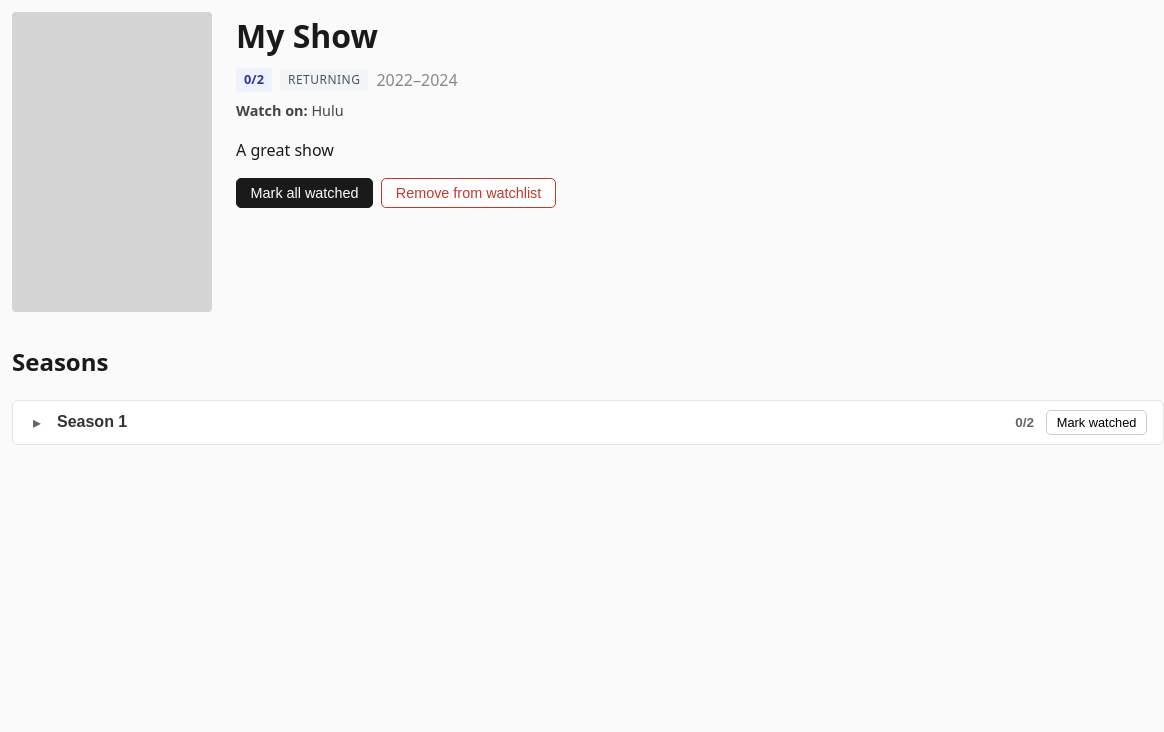
Test: ShowDetail › shows error when episode toggle fails
This screenshot has width=1164, height=732.
expect the heading "My Show" is shown: met, box [236,14,378,57]
Click the button "▸ Season 1 0/2" at (92, 422), box [29,409,1034,436]
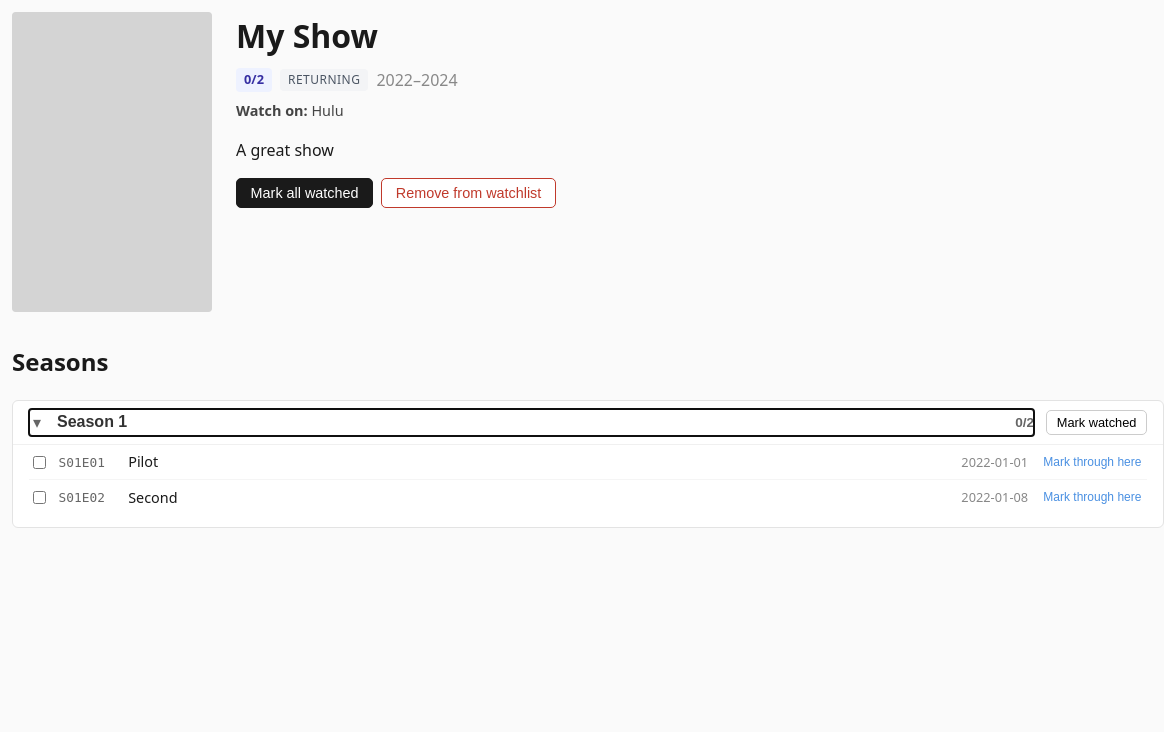
Click the checkbox named "Mark S1E1 watched" at (40, 462), box [33,456,46,469]
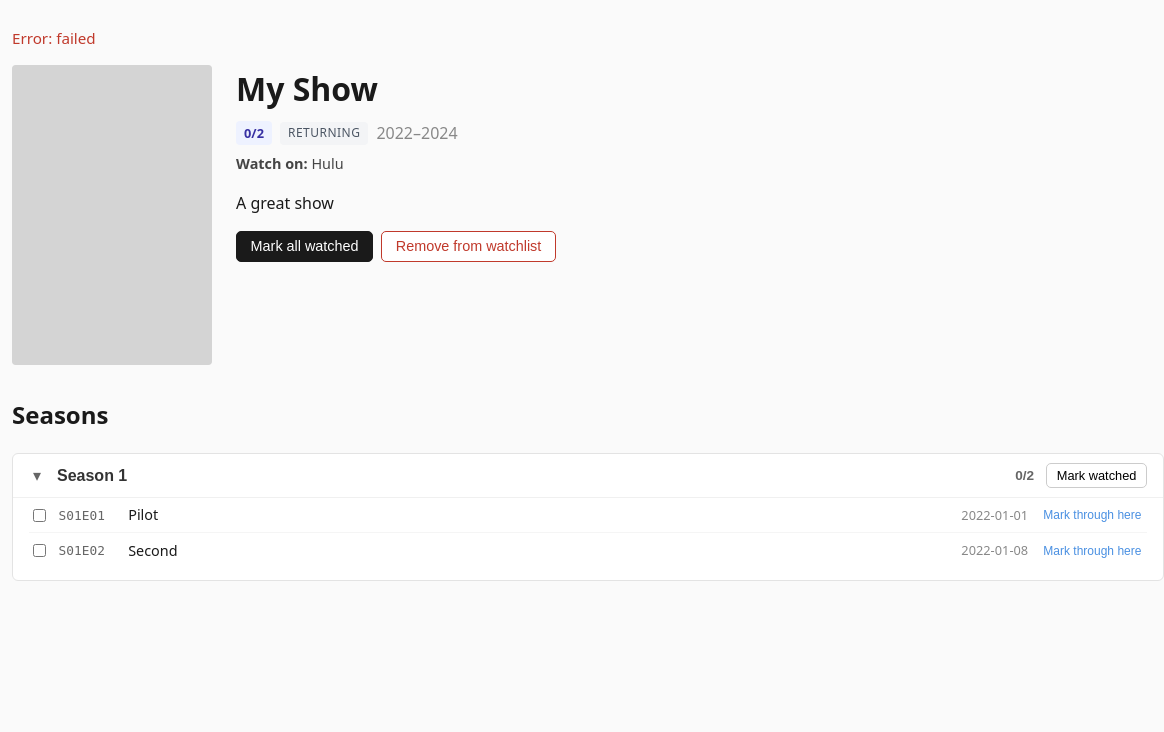
expect the text "Error: failed" is shown: met, box [12,28,96,48]
